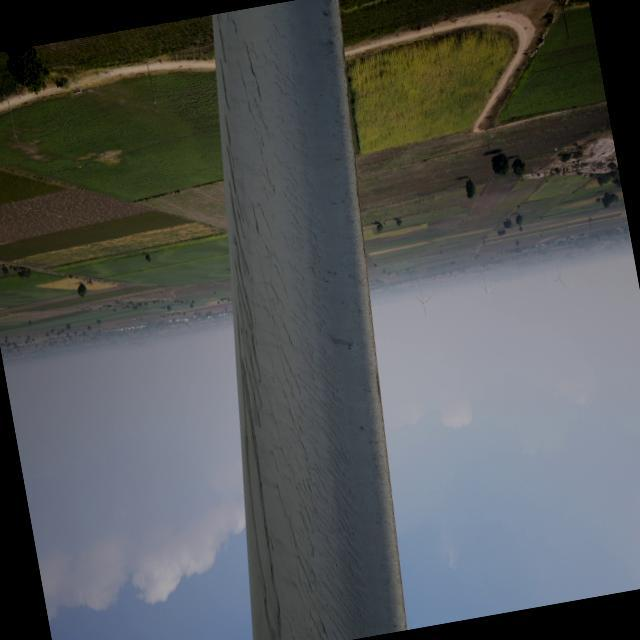Dirt: (215, 4, 409, 640)
